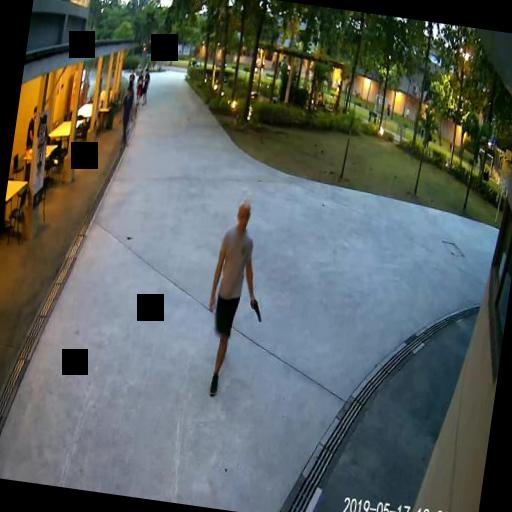Handgun: (246, 294, 262, 320)
